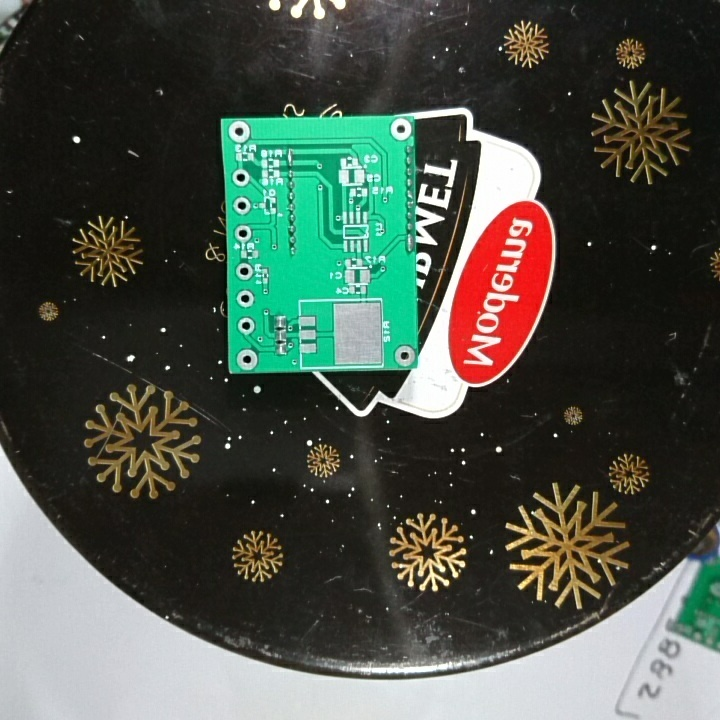F: (388, 118, 414, 143), (234, 346, 259, 372), (228, 118, 252, 143), (394, 343, 417, 369), (235, 287, 257, 310), (231, 168, 251, 189), (234, 260, 254, 281), (231, 196, 252, 215), (237, 315, 256, 335), (233, 224, 251, 243)
P: (285, 146, 297, 168), (405, 232, 416, 253)
